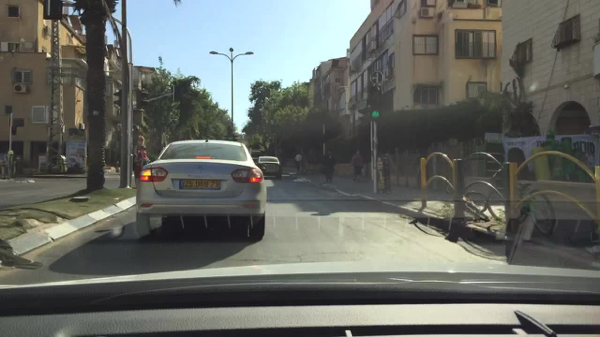car: (134, 139, 268, 237), (257, 155, 282, 178)
person: (133, 136, 149, 191), (350, 149, 364, 184), (323, 150, 334, 184), (139, 145, 150, 169), (294, 152, 301, 171)
traffic light: (42, 0, 63, 21), (357, 107, 371, 124), (371, 110, 379, 120)
traffic sign: (370, 71, 385, 84)
